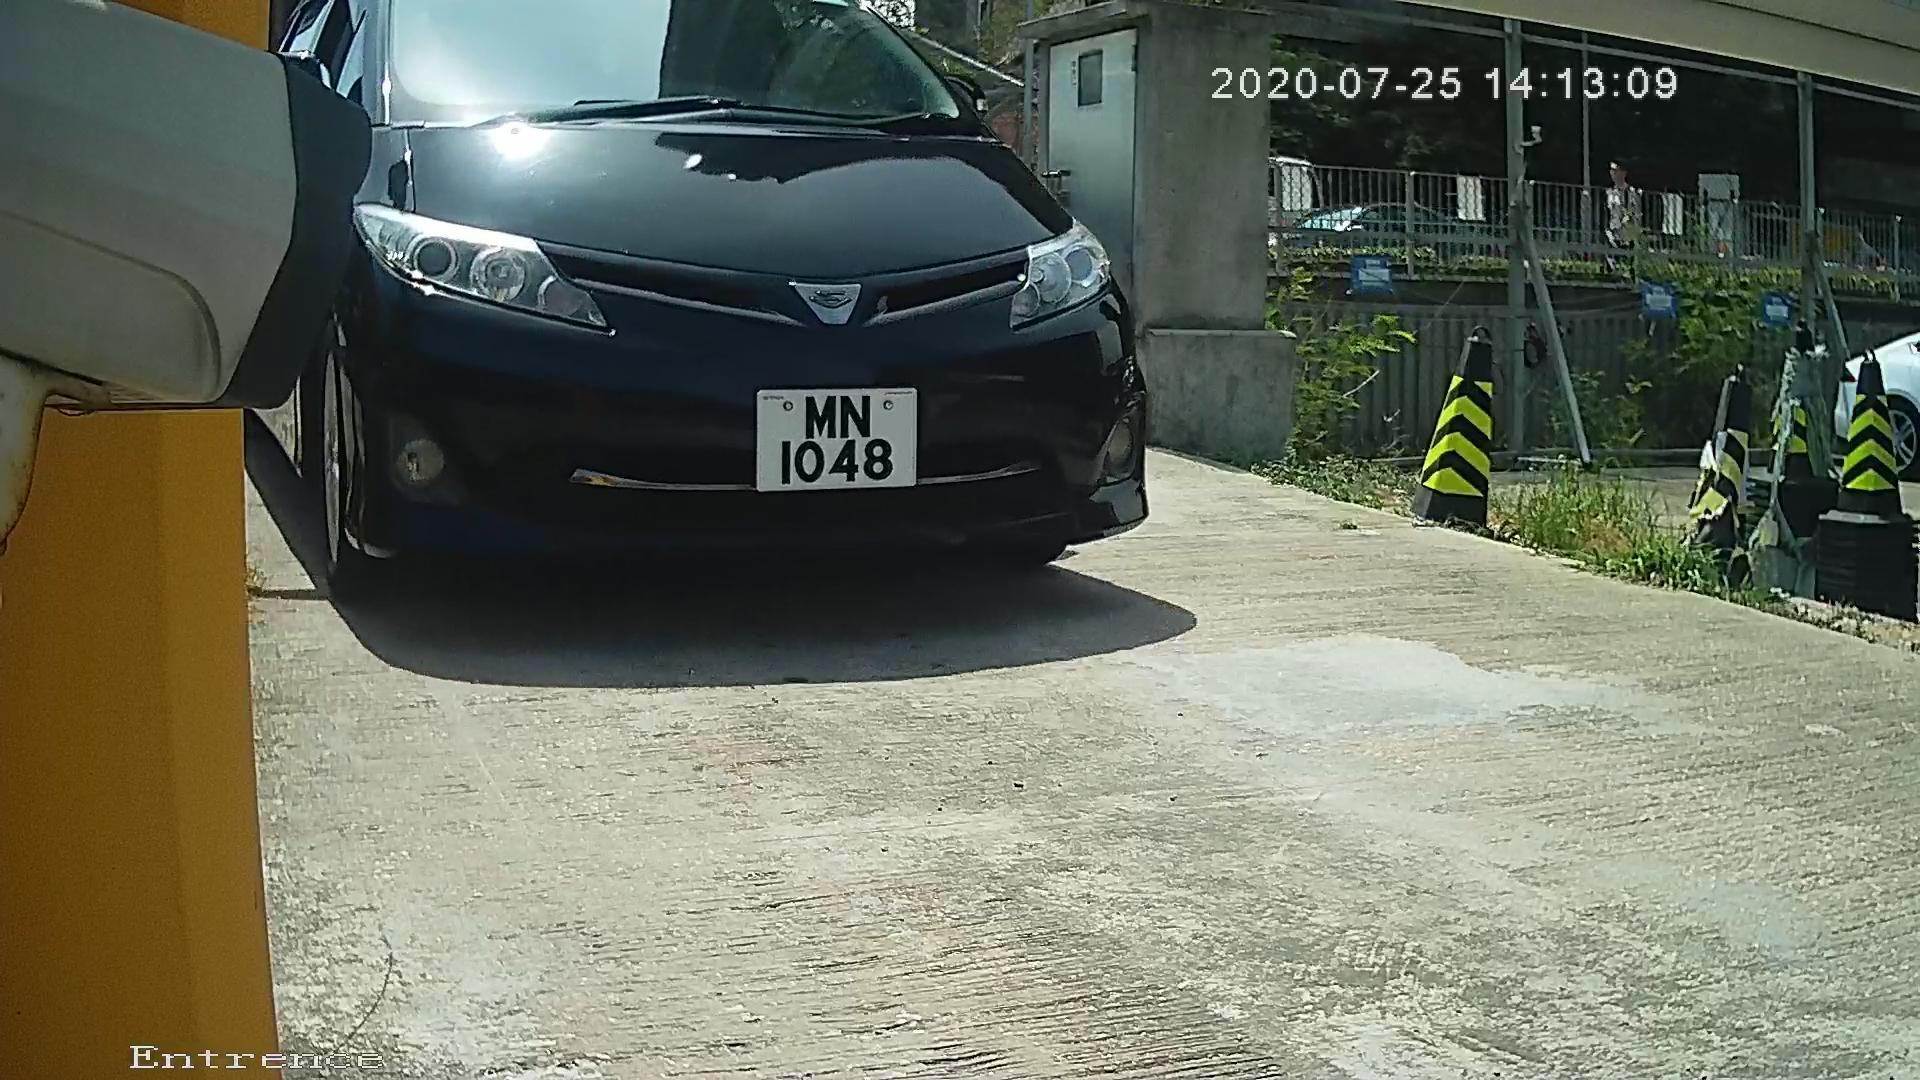Car: (86, 5, 1218, 647)
License Plate: (729, 377, 943, 512)
